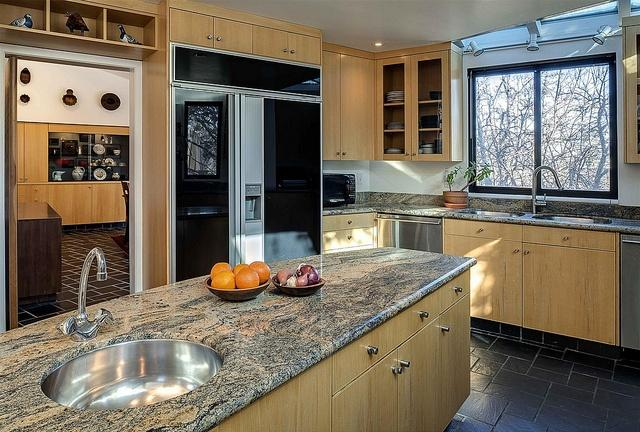Lemari: (321, 37, 451, 161)
